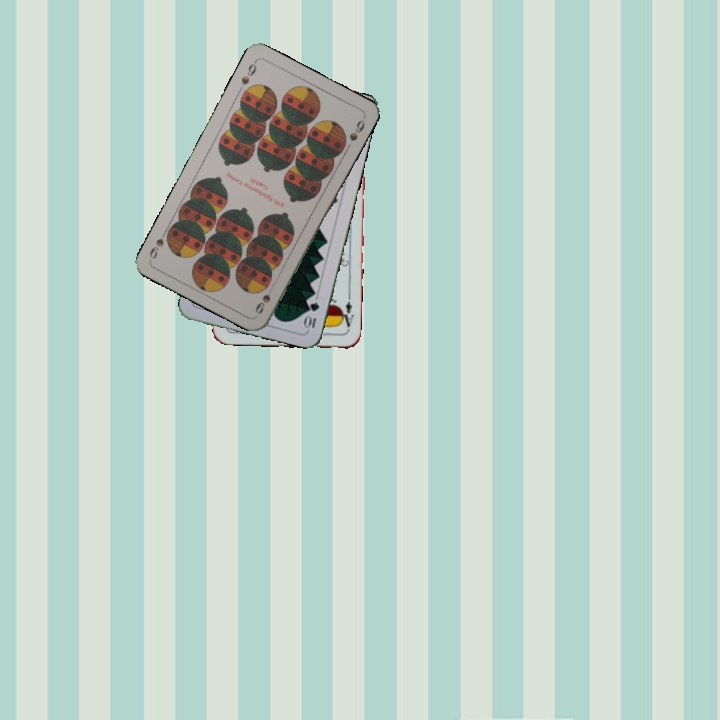EA: (337, 292, 357, 333)
G10: (301, 298, 322, 332)
S9: (237, 57, 259, 87), (251, 290, 273, 317)
